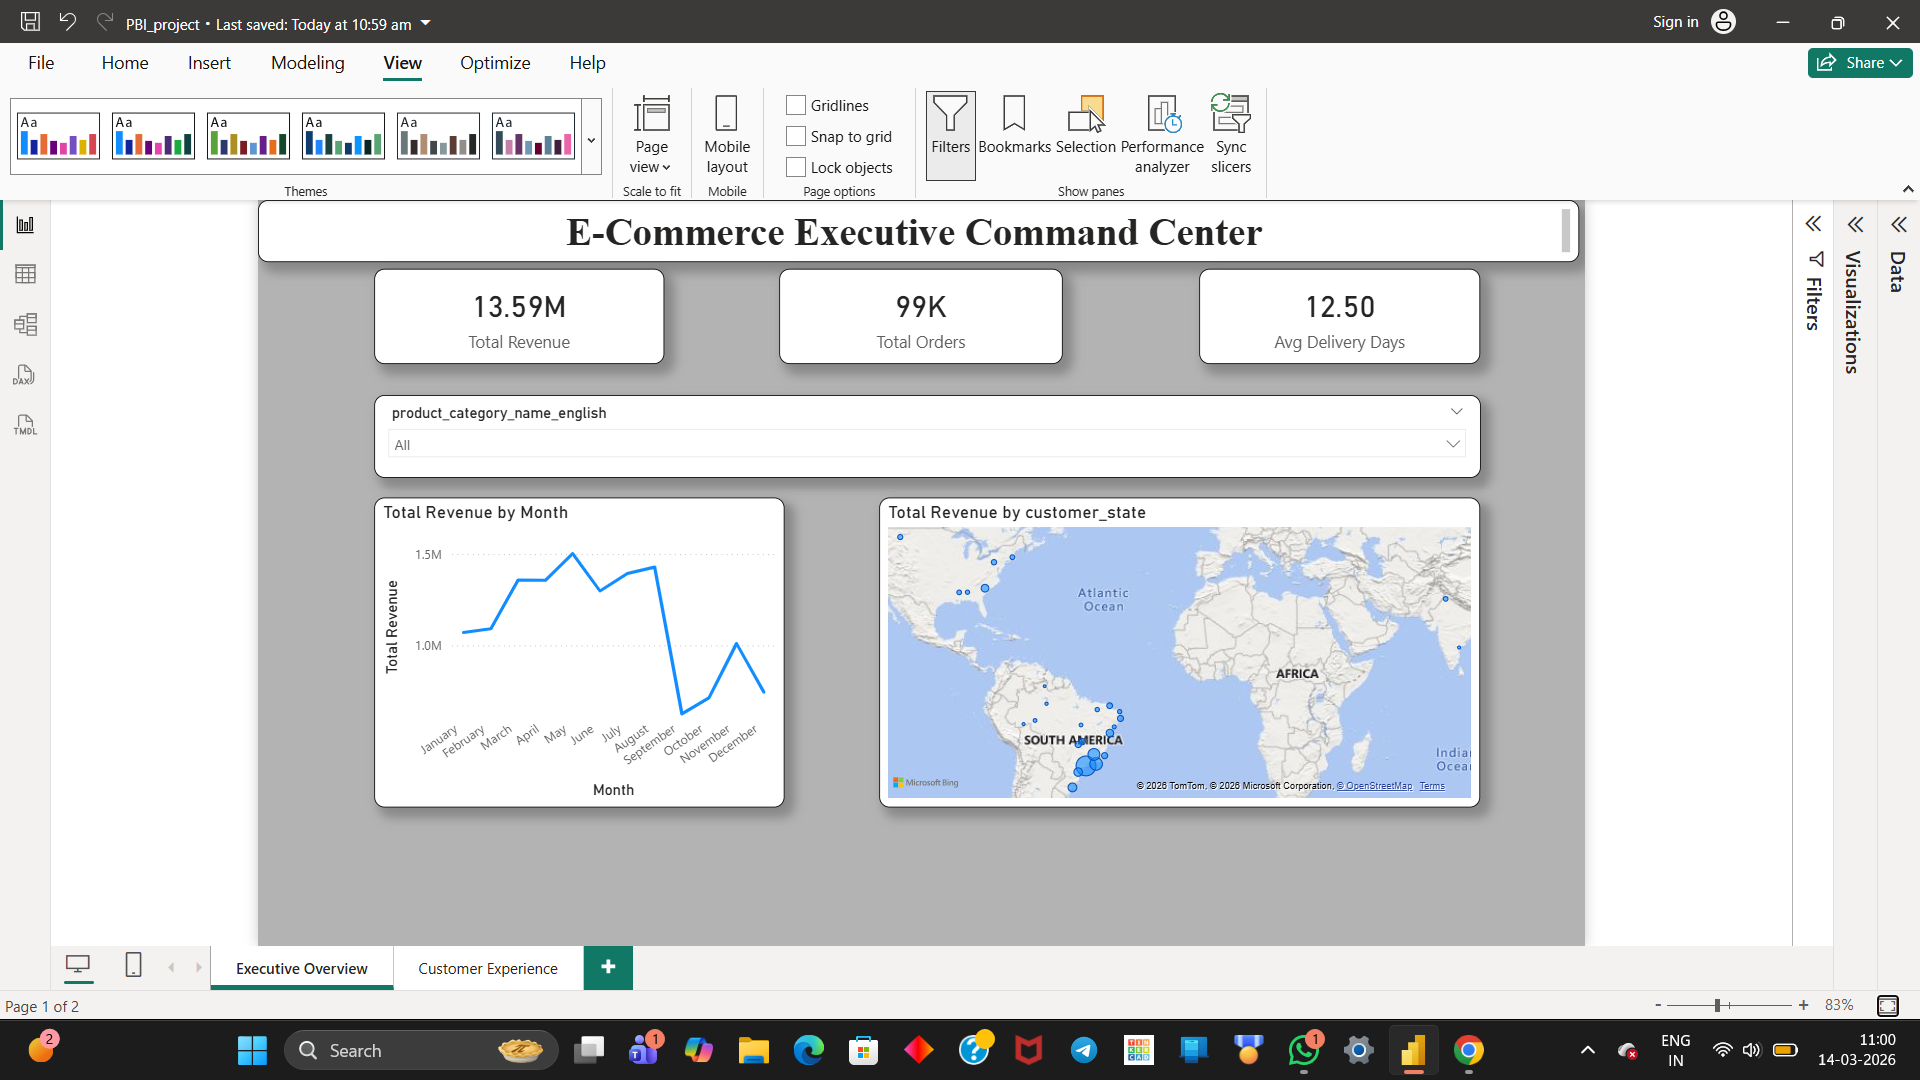

The dashboard page shown, as its layout file describes it:
{"tool":"powerbi","page":{"name":"Executive Overview","canvas":[1280,720],"ordinal":0},"visuals":[{"type":"textbox","box":[0,0,1275.2,60.3],"z":0},{"type":"card","fields":{"Values":["_Key.Total Revenue"]},"box":[112.2,66.4,279.9,91.7],"z":1000},{"type":"card","fields":{"Values":["_Key.Total Orders"]},"box":[503.1,66.4,273.9,91.7],"z":2000},{"type":"card","fields":{"Values":["_Key.Avg Delivery Days"]},"box":[908.4,66.4,271.4,91.7],"z":3000},{"type":"lineChart","fields":{"Category":["olist_orders_dataset.order_purchase_timestamp.Variation.Date Hierarchy.Year","olist_orders_dataset.order_purchase_timestamp.Variation.Date Hierarchy.Month"],"Y":["_Key.Total Revenue"]},"box":[112.2,287.1,395.7,299.2],"z":4000},{"type":"map","fields":{"Category":["olist_customers_dataset.customer_state"],"Size":["_Key.Total Revenue"]},"box":[599.6,287.1,580.3,299.2],"z":5000},{"type":"slicer","fields":{"Values":["olist_products_dataset.Column2"]},"box":[112.2,188.2,1067.7,79.6],"z":6000}]}

Visuals, with their boxes on the page's 1280x720 design canvas (x1, y1, x2, y2). These are canvas units, not pixel positions in the 1920x1080 screenshot, which may show the page scaled, cropped or inside an application window:
textbox: left=0, top=0, right=1275, bottom=60
card - _Key.Total Revenue: left=112, top=66, right=392, bottom=158
card - _Key.Total Orders: left=503, top=66, right=777, bottom=158
card - _Key.Avg Delivery Days: left=908, top=66, right=1180, bottom=158
lineChart - olist_orders_dataset.order_purchase_timestamp.Variation.Date Hierarchy.Year x olist_orders_dataset.order_purchase_timestamp.Variation.Date Hierarchy.Month: left=112, top=287, right=508, bottom=586
map - olist_customers_dataset.customer_state x _Key.Total Revenue: left=600, top=287, right=1180, bottom=586
slicer - olist_products_dataset.Column2: left=112, top=188, right=1180, bottom=268
